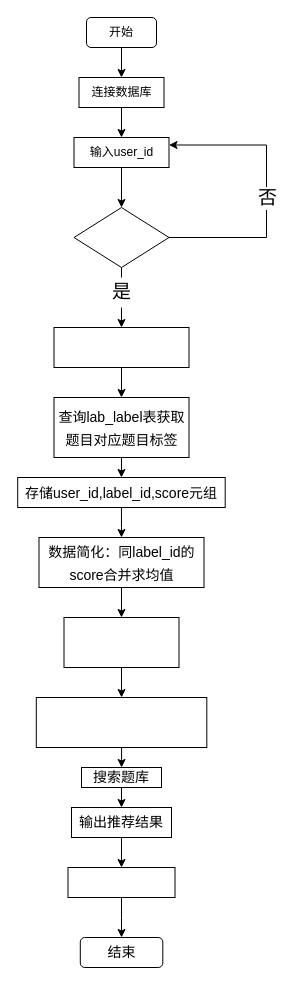
This 294x985 diagram has some shape labels left out. Each missing label, with the box of its shape:
关闭数据库连接: (67, 866, 175, 898)
对personal_lab表根据user_id进行分组降序排列（选中两个label标签）: (35, 696, 207, 748)
插入数据库的personal_lab表: (63, 616, 179, 668)
是否存在: (73, 206, 169, 268)
根据id查找做题记录: (53, 326, 189, 368)
